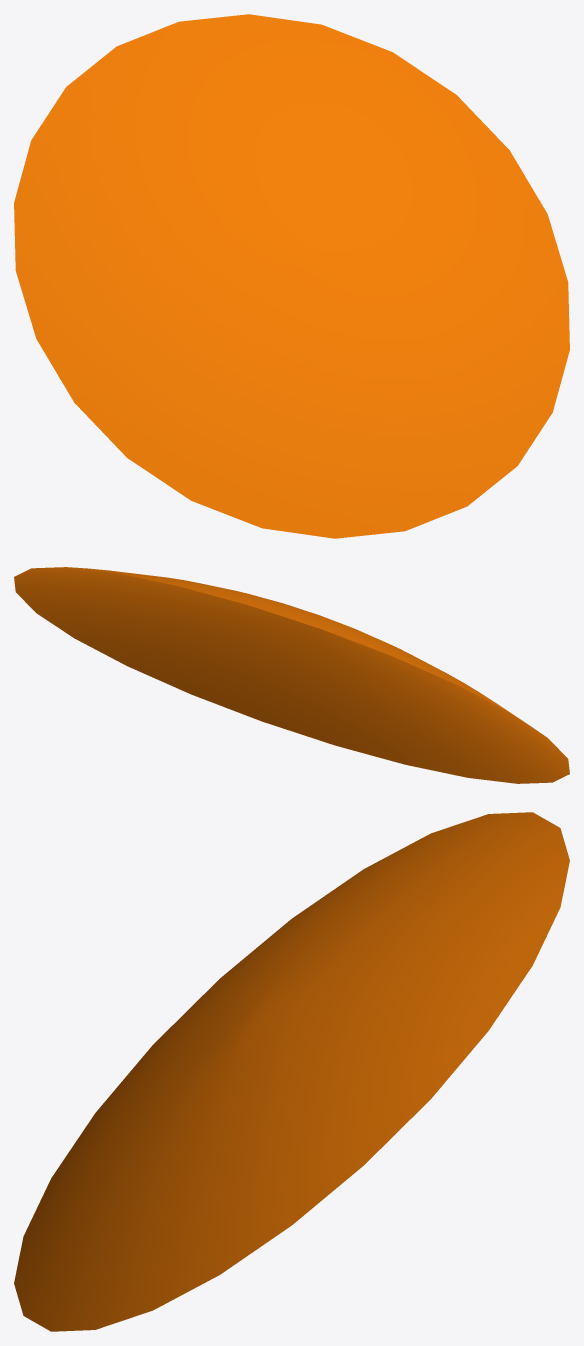
The model's file is enemy3.fbx.
The picture shows the model from 3 angles, top to bottom: view 1: azimuth 30°, elevation 25°; view 2: azimuth 150°, elevation 25°; view 3: azimuth 270°, elevation 25°; orthographic projection. The views are drawn at different scales.
Parts seen in each view (by area): view 1: 对象002; view 2: 对象002; view 3: 对象002.
Boxes of the visible parts, x1,y1,x2,y2 form: 对象002: (14,14,569,538); 对象002: (14,567,569,783); 对象002: (14,812,569,1331).
Size of the model in its own units: 7.71 by 4.95 by 5.9.
